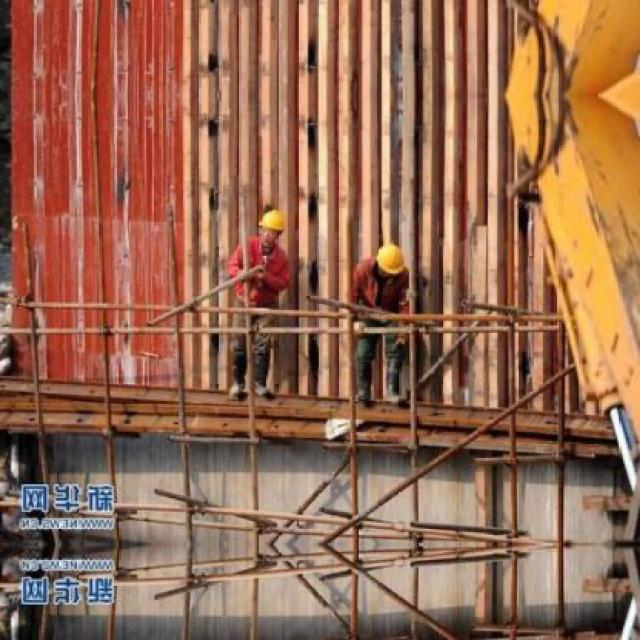helmet: (372, 241, 408, 285), (258, 208, 288, 247)
